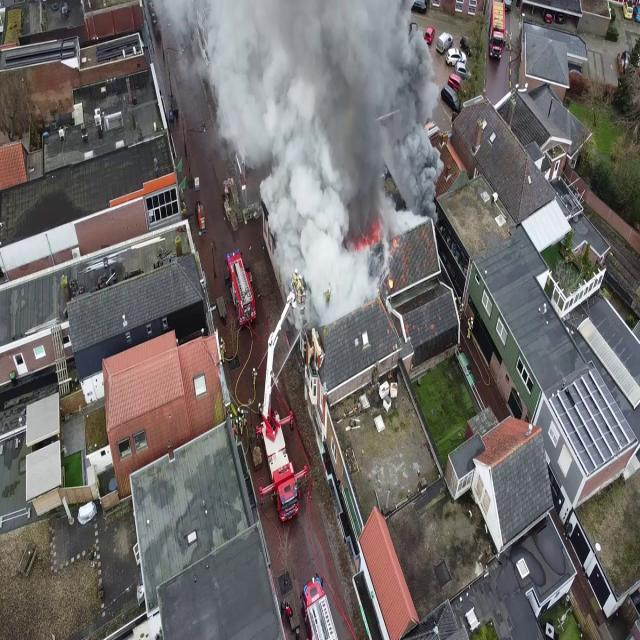Smoke: (206, 0, 442, 327)
